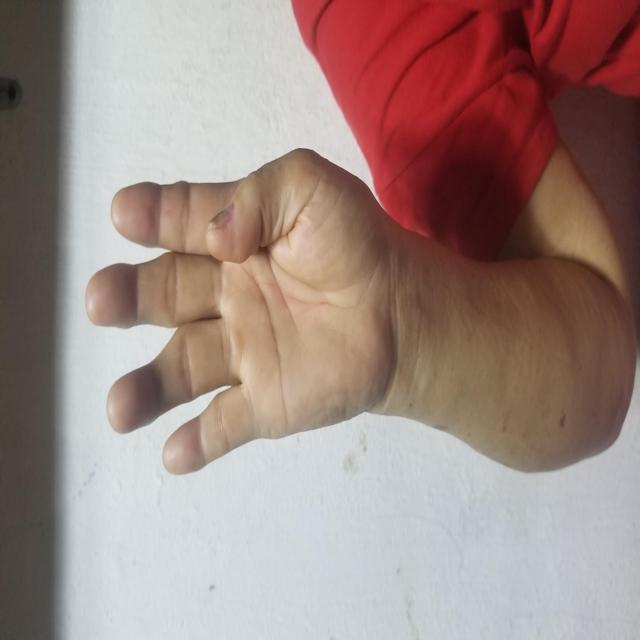B: (163, 84, 495, 390)
